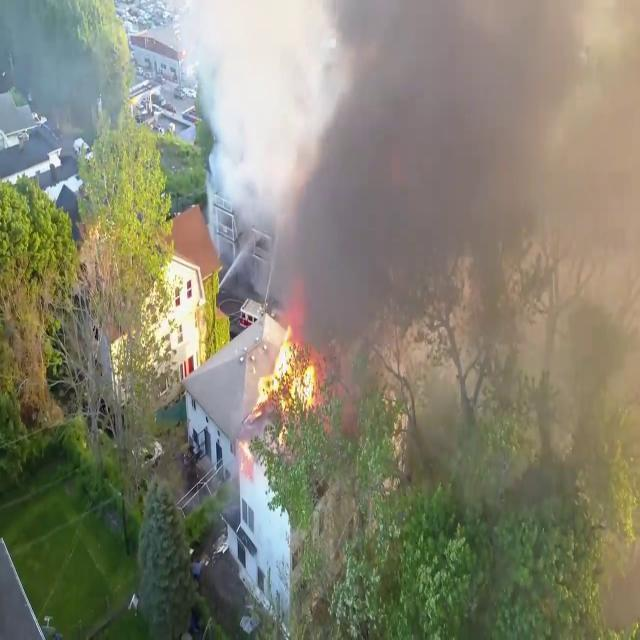Fire: (253, 322, 320, 423)
Smoke: (248, 1, 640, 377)
